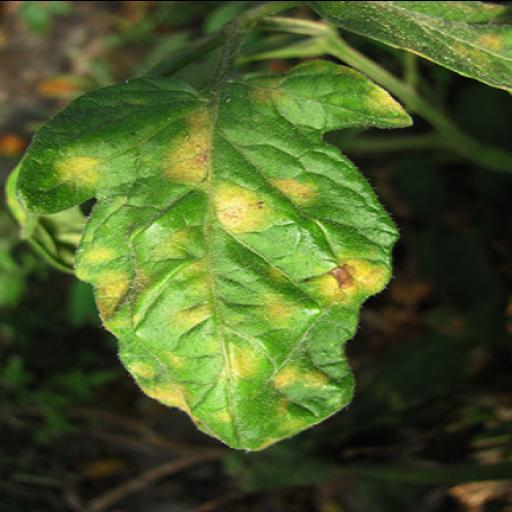Leaf Mold: (12, 49, 414, 451)
